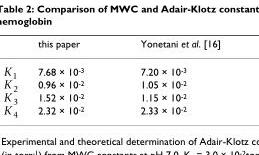table: (37, 37, 220, 116)
table column: (111, 37, 220, 116), (37, 37, 111, 116)
table column header: (37, 37, 220, 57)
table row: (37, 37, 220, 57), (37, 57, 220, 77), (37, 77, 220, 90), (37, 90, 220, 103), (37, 103, 220, 116)
